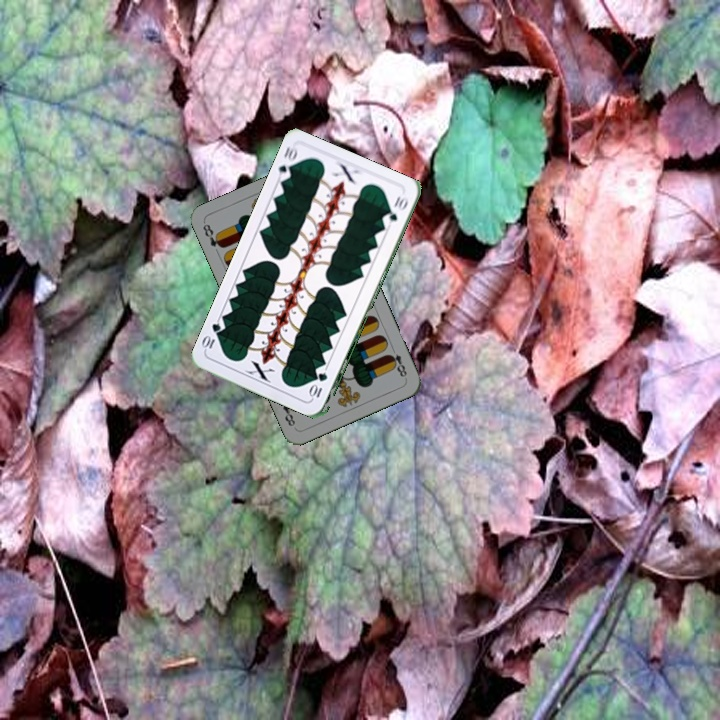E8: (384, 343, 410, 381), (199, 220, 226, 251)
G10: (274, 142, 300, 183), (307, 368, 330, 401)
